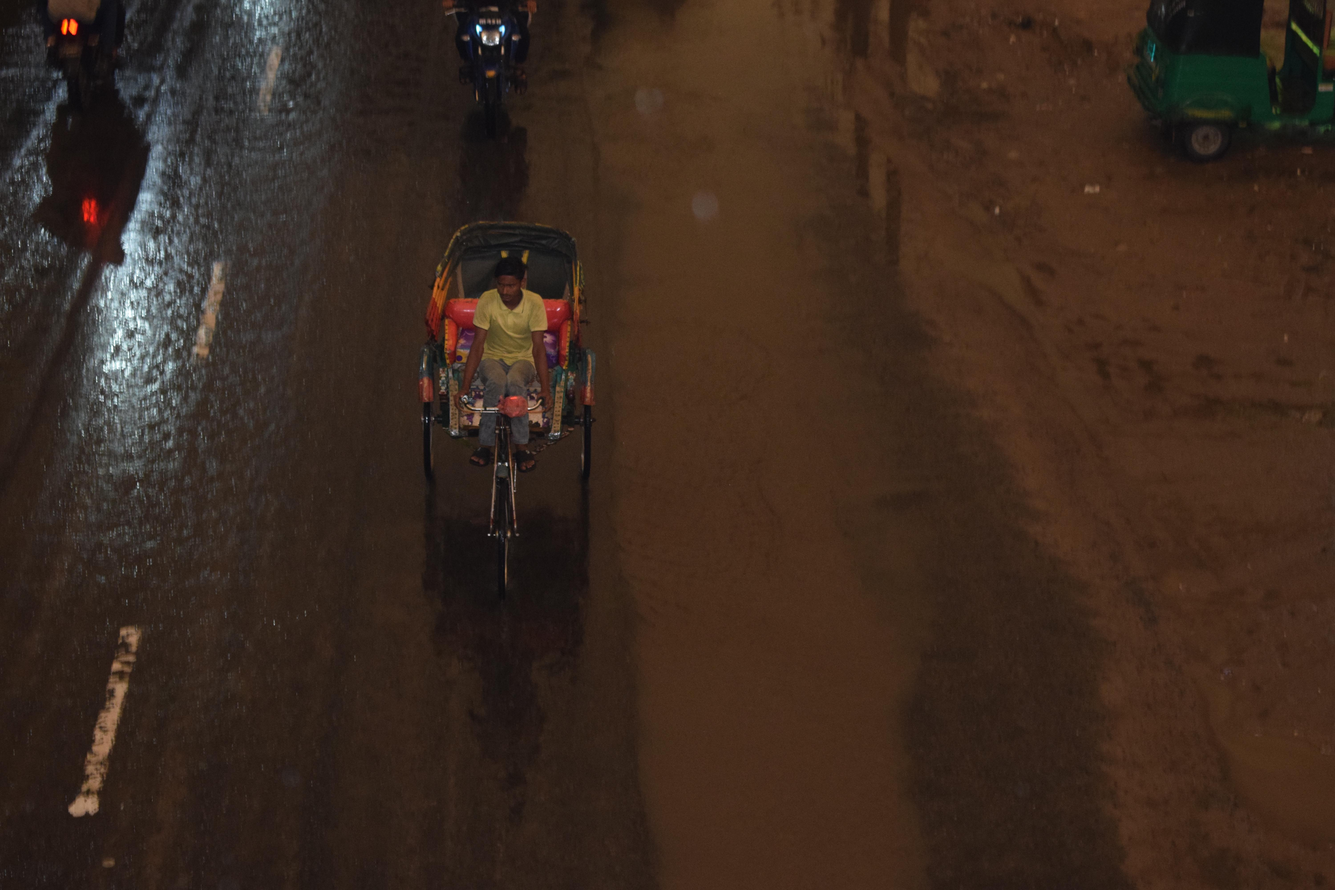Bike: (0, 0, 167, 136), (413, 0, 573, 131)
Car: (309, 168, 682, 638)
